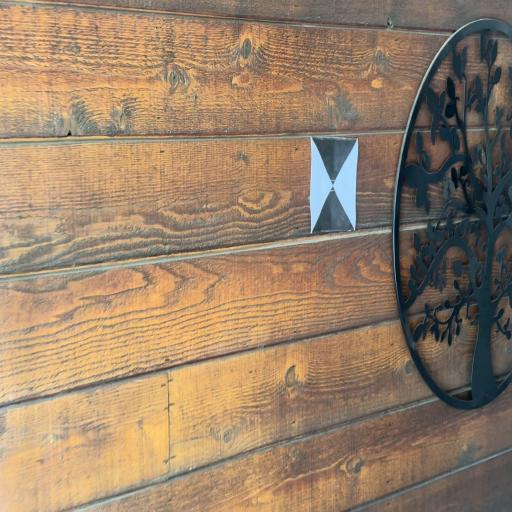target: (310, 135, 356, 231)
